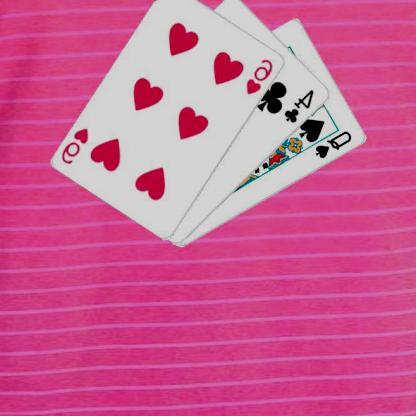4C: (284, 86, 318, 124)
6H: (245, 56, 277, 96), (61, 125, 92, 166)
QS: (314, 128, 356, 160)
